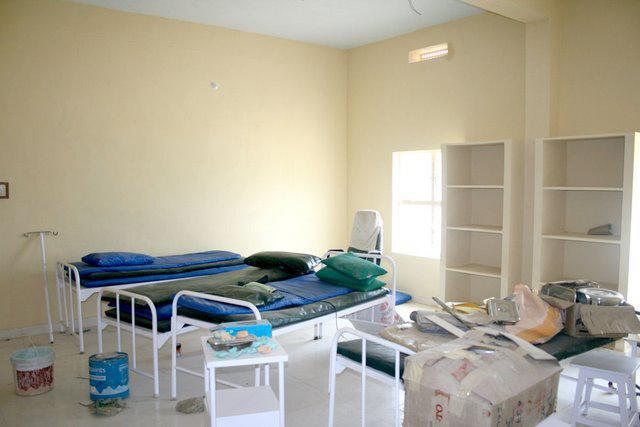Cama: (334, 281, 620, 402), (171, 253, 401, 341), (120, 254, 328, 341), (63, 240, 258, 291)
Otro Obstaculo: (10, 339, 58, 400), (84, 349, 136, 404)
